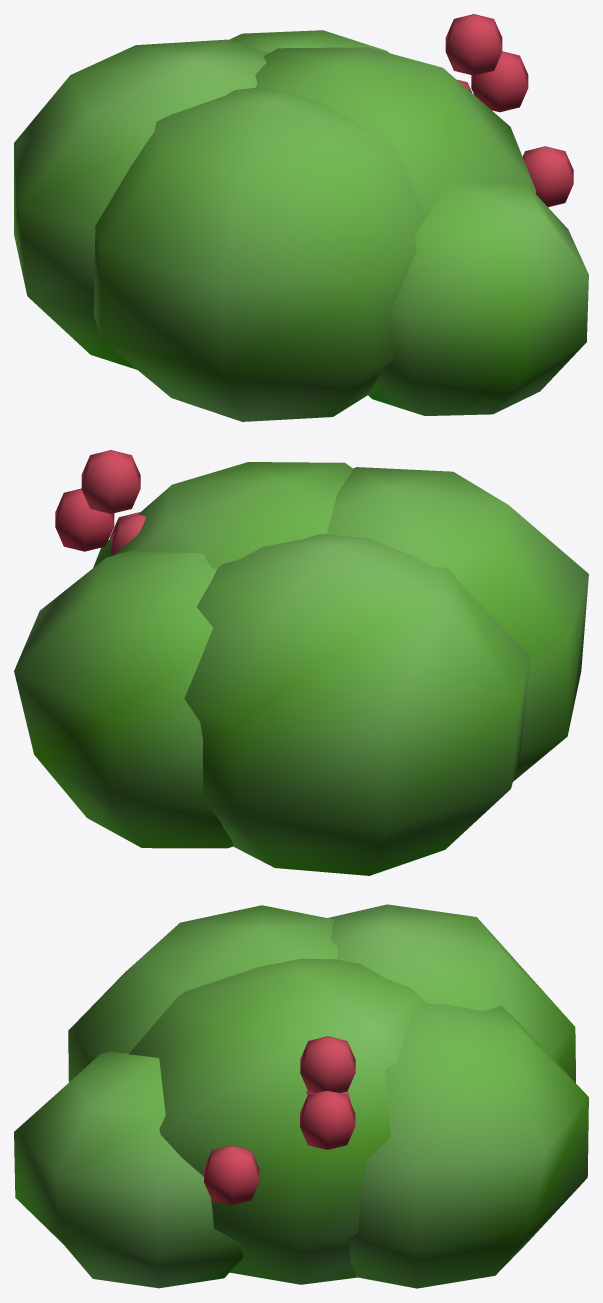
The model's file is world_bush_berry_a.fbx.
3 views of the same model, one above another, from view 1: azimuth 30°, elevation 25°; view 2: azimuth 150°, elevation 25°; view 3: azimuth 270°, elevation 25° (orthographic). The views are drawn at different scales.
Visible parts, largest first — view 1: world_bush_berry_a; view 2: world_bush_berry_a; view 3: world_bush_berry_a.
Part boxes in pixels (x1=…): world_bush_berry_a: x1=14, y1=14, x2=588, y2=421; world_bush_berry_a: x1=14, y1=450, x2=588, y2=875; world_bush_berry_a: x1=14, y1=904, x2=588, y2=1288.
Size of the model in its own units: 202 by 123 by 216.
